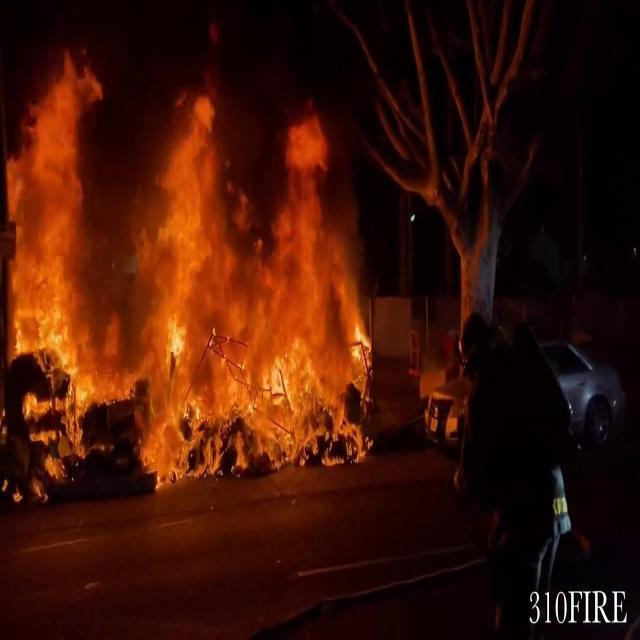Fire: (0, 61, 376, 490)
